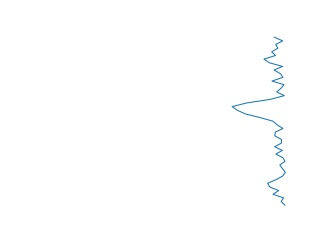interdistributaryEstuary: (227, 37, 295, 205)
